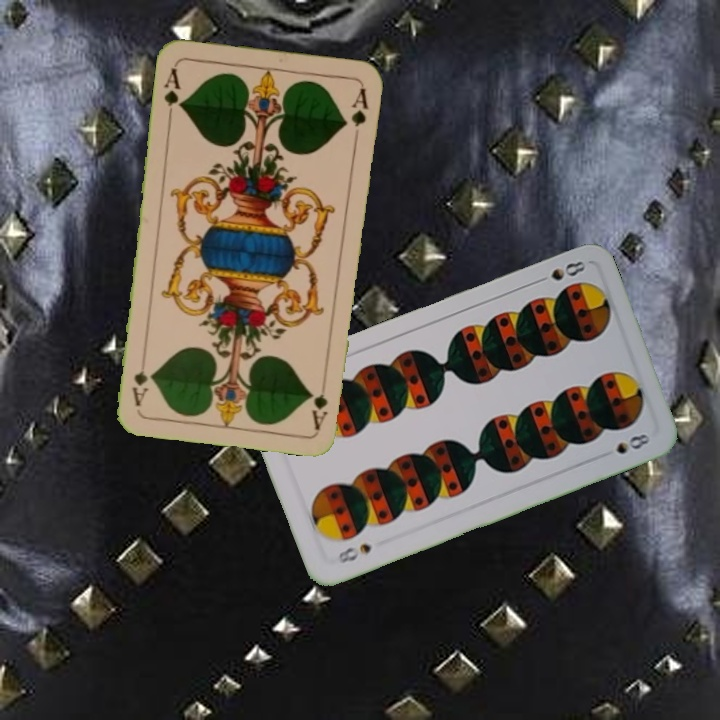GA: (160, 62, 185, 122), (308, 390, 330, 431)
S8: (531, 256, 589, 287), (334, 539, 375, 566)
